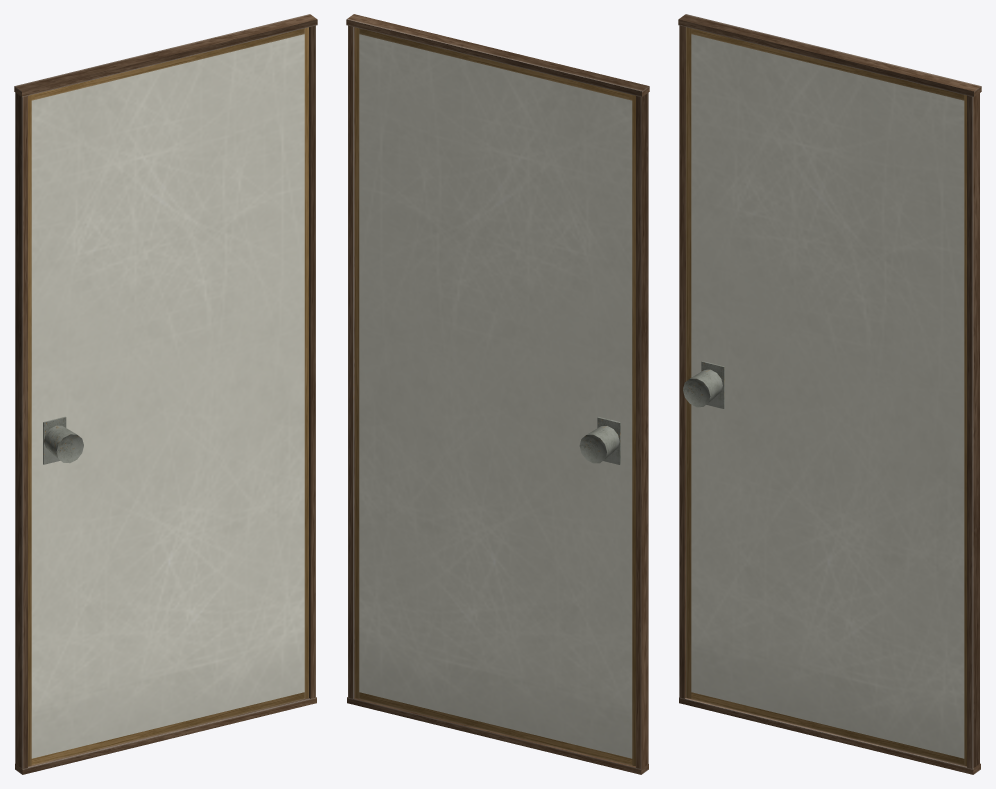
The model's file is roomdoor02a.fbx.
The picture shows the model from 3 angles, left to right: view 1: azimuth 30°, elevation 25°; view 2: azimuth 150°, elevation 25°; view 3: azimuth 330°, elevation 25°; orthographic projection.
Parts seen in each view (by area): view 1: roomdoor02a; view 2: roomdoor02a; view 3: roomdoor02a.
Boxes of the visible parts, x1=… form: roomdoor02a: x1=14, y1=14, x2=317, y2=774; roomdoor02a: x1=346, y1=14, x2=649, y2=774; roomdoor02a: x1=678, y1=14, x2=981, y2=774.
Bounding box in the file's own units: 93.88 × 207 × 20.96.
